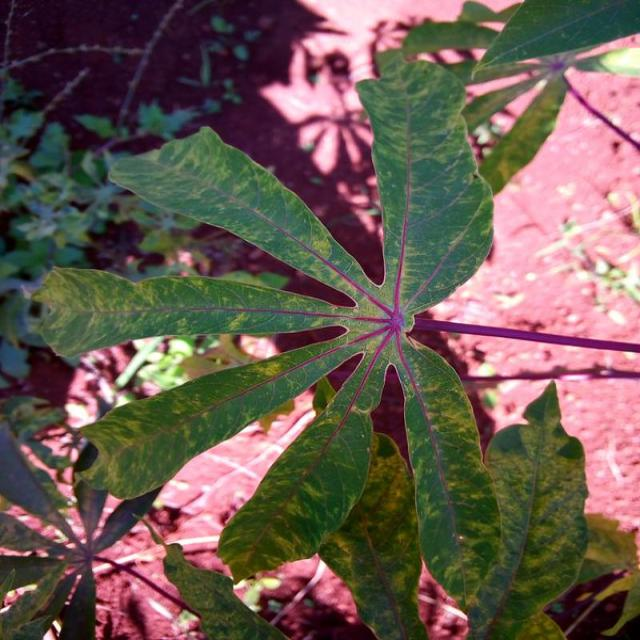cassava leaf: (36, 50, 511, 634), (466, 377, 590, 638)
